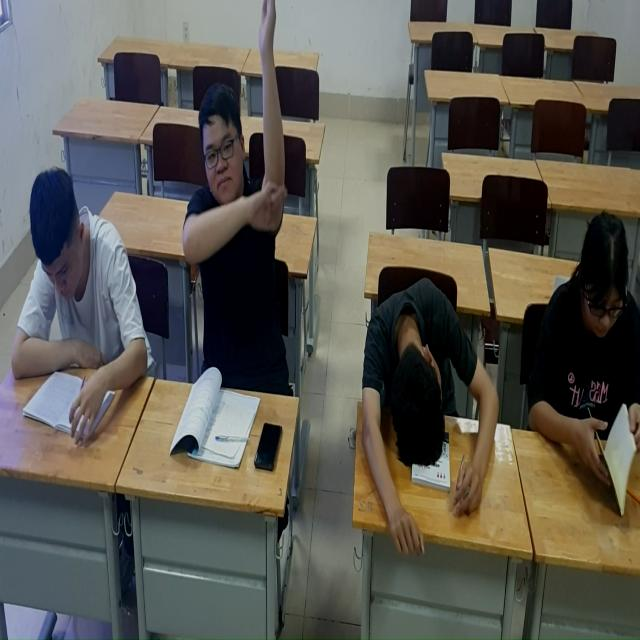raise_hand: (158, 1, 297, 456)
read: (7, 157, 144, 441), (514, 204, 640, 502)
sleep: (343, 281, 501, 559)
